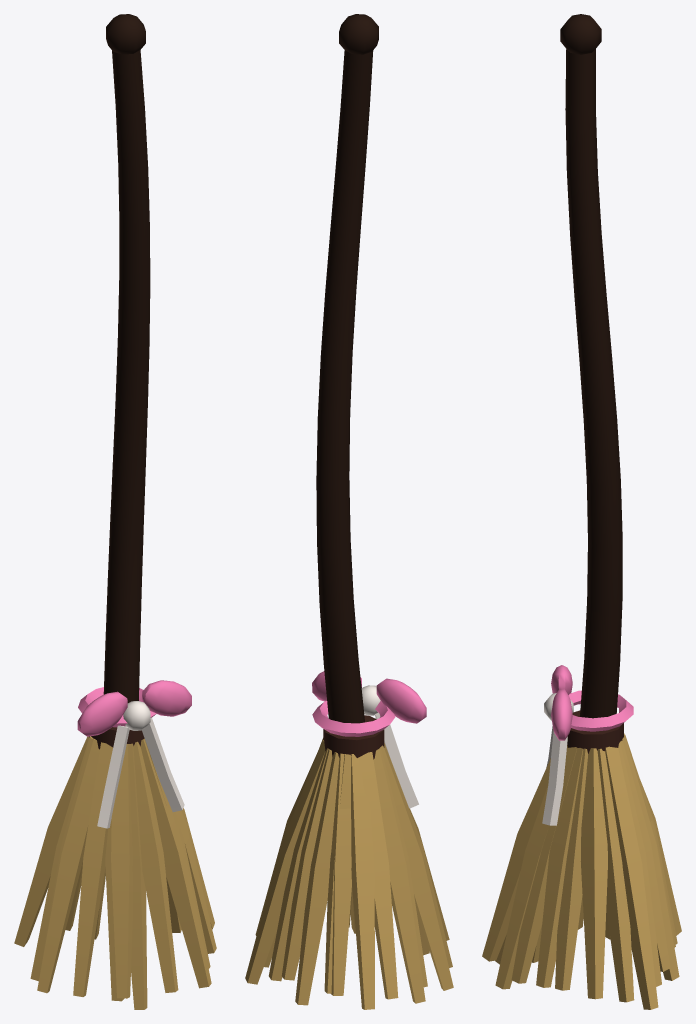
File: Witch_Broom.fbx
3 renders of one model, left to right at view 1: azimuth 30°, elevation 25°; view 2: azimuth 150°, elevation 25°; view 3: azimuth 270°, elevation 25°, orthographic.
Parts seen in each view (by area): view 1: Witch_Broom_Bristles, Witch_Broom_Handle, Witch_Broom_Ribbon; view 2: Witch_Broom_Bristles, Witch_Broom_Handle, Witch_Broom_Ribbon; view 3: Witch_Broom_Bristles, Witch_Broom_Handle, Witch_Broom_Ribbon.
Part boxes in pixels (<box>): Witch_Broom_Bristles: <box>14,727,216,1009</box>; Witch_Broom_Handle: <box>103,14,150,702</box>; Witch_Broom_Ribbon: <box>77,680,191,828</box>; Witch_Broom_Bristles: <box>245,715,453,1009</box>; Witch_Broom_Handle: <box>316,14,378,723</box>; Witch_Broom_Ribbon: <box>312,671,426,808</box>; Witch_Broom_Bristles: <box>482,710,681,1009</box>; Witch_Broom_Handle: <box>560,14,622,718</box>; Witch_Broom_Ribbon: <box>542,665,633,825</box>.
Bounding box in the file's own units: 0.3496 × 1.71 × 0.3219.
